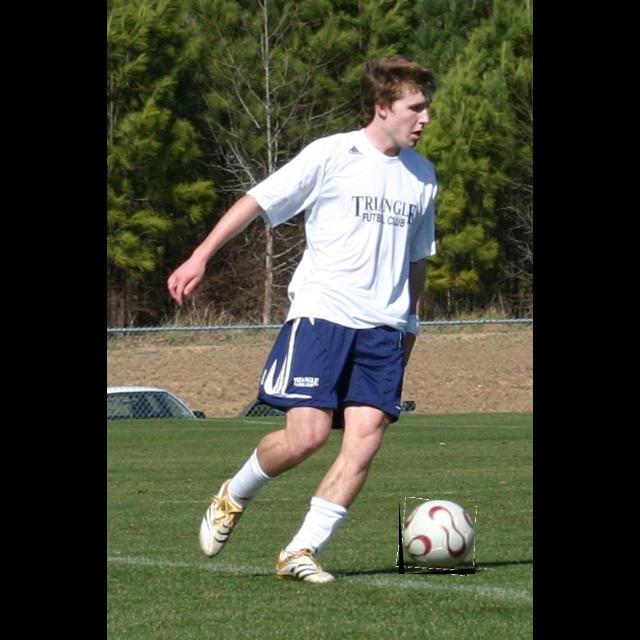Football: (399, 500, 475, 574)
